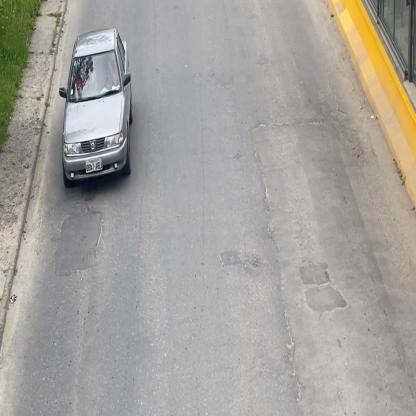Placa: (83, 159, 102, 176)
